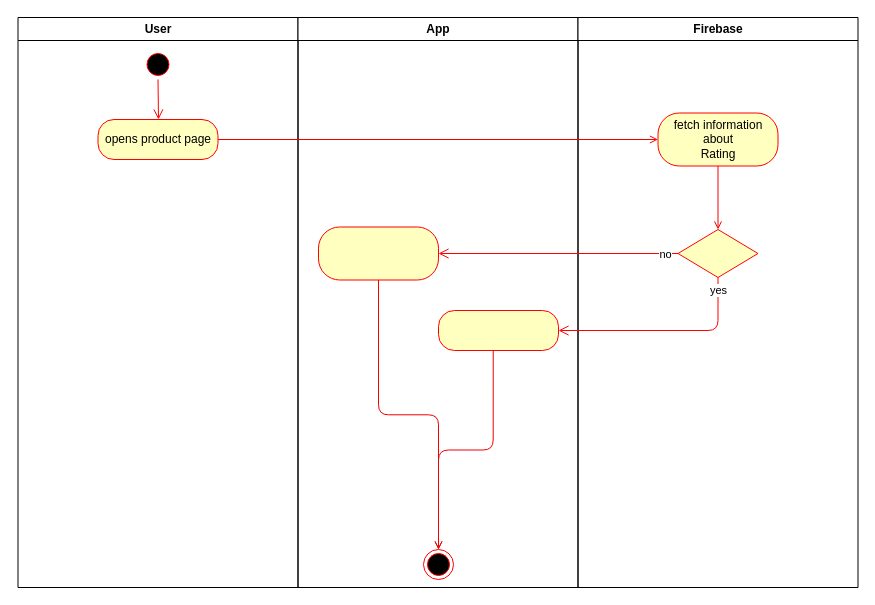
This 875x605 diagram has some shape labels left out. The shapes that lost their labels are listed below. From the top down, each one's centre as x and y in pixels, then its label:
At (x=378, y=253): "show info that no Rating is present".
At (x=717, y=253): "Found?".
At (x=498, y=330): "show Rating".
